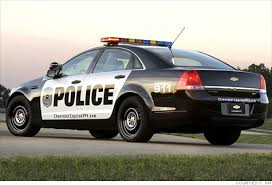special: (7, 37, 269, 149)
